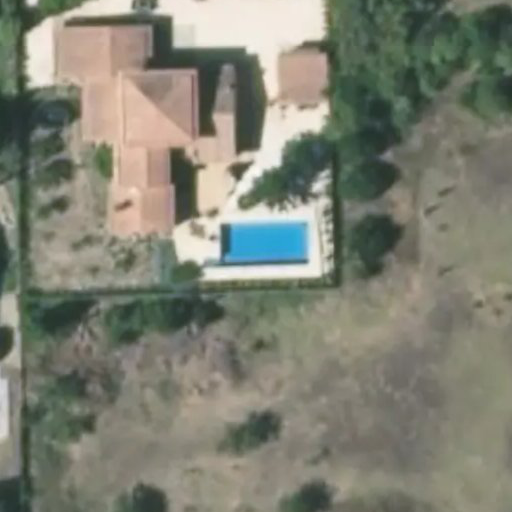pool: (201, 222, 308, 263)
